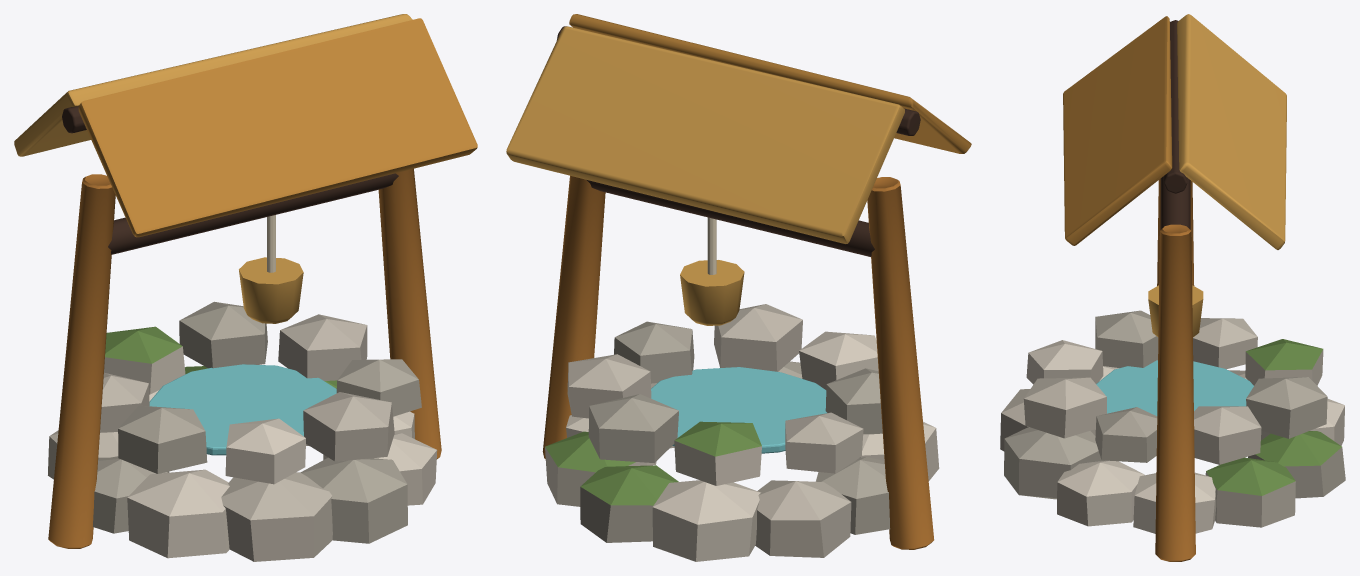
File: prop_stone_well.glb
3 views of the same model, side by side, from view 1: azimuth 30°, elevation 25°; view 2: azimuth 150°, elevation 25°; view 3: azimuth 270°, elevation 25° (orthographic). The views are drawn at different scales.
Parts seen in each view (by area): view 1: well_roof_-1, well_post_l, well_post_r, well_water, well_stone_7, well_stone_6, well_stone_8, well_roof_1, well_stone_b_6, well_stone_b_4, well_stone_b_1, well_stone_b_0 (+9 smaller); view 2: well_roof_1, well_post_l, well_post_r, well_water, well_stone_3, well_stone_4, well_roof_-1, well_stone_2, well_stone_b_1, well_stone_b_2, well_stone_b_6, well_stone_b_3 (+9 smaller); view 3: well_roof_1, well_roof_-1, well_post_r, well_stone_1, well_stone_8, well_stone_9, well_water, well_stone_b_6, well_stone_2, well_stone_b_1, well_stone_b_0, well_stone_b_4 (+11 smaller).
Boxes of the visible parts, left/top/right/bottom form: well_roof_-1: left=78, top=18, right=477, bottom=237; well_post_l: left=48, top=174, right=115, bottom=548; well_post_r: left=378, top=168, right=441, bottom=459; well_water: left=149, top=364, right=336, bottom=455; well_stone_7: left=221, top=472, right=332, bottom=561; well_stone_6: left=127, top=469, right=229, bottom=558; well_stone_8: left=300, top=457, right=407, bottom=543; well_roof_1: left=14, top=14, right=412, bottom=156; well_stone_b_6: left=303, top=392, right=394, bottom=461; well_stone_b_4: left=118, top=405, right=207, bottom=473; well_stone_b_1: left=179, top=301, right=267, bottom=368; well_stone_b_0: left=278, top=314, right=367, bottom=380; well_roof_1: left=506, top=26, right=904, bottom=243; well_post_l: left=867, top=177, right=934, bottom=549; well_post_r: left=542, top=175, right=605, bottom=458; well_water: left=651, top=367, right=826, bottom=453; well_stone_3: left=652, top=480, right=760, bottom=561; well_stone_4: left=755, top=480, right=851, bottom=557; well_roof_-1: left=569, top=14, right=971, bottom=153; well_stone_2: left=580, top=465, right=678, bottom=542; well_stone_b_1: left=588, top=394, right=678, bottom=463; well_stone_b_2: left=674, top=421, right=761, bottom=485; well_stone_b_6: left=714, top=304, right=802, bottom=371; well_stone_b_3: left=785, top=412, right=863, bottom=473; well_roof_1: left=1177, top=14, right=1286, bottom=249; well_roof_-1: left=1063, top=16, right=1172, bottom=245; well_post_r: left=1155, top=224, right=1195, bottom=561; well_stone_1: left=1205, top=457, right=1295, bottom=527; well_stone_8: left=1004, top=427, right=1104, bottom=499; well_stone_9: left=1057, top=460, right=1144, bottom=526; well_water: left=1096, top=360, right=1253, bottom=415; well_stone_b_6: left=1023, top=377, right=1106, bottom=438; well_stone_2: left=1248, top=431, right=1345, bottom=498; well_stone_b_1: left=1246, top=377, right=1327, bottom=438; well_stone_b_0: left=1194, top=406, right=1261, bottom=464; well_stone_b_4: left=1095, top=310, right=1158, bottom=367.
Bounding box in the file's own units: 1.46 × 1.61 × 1.27.
